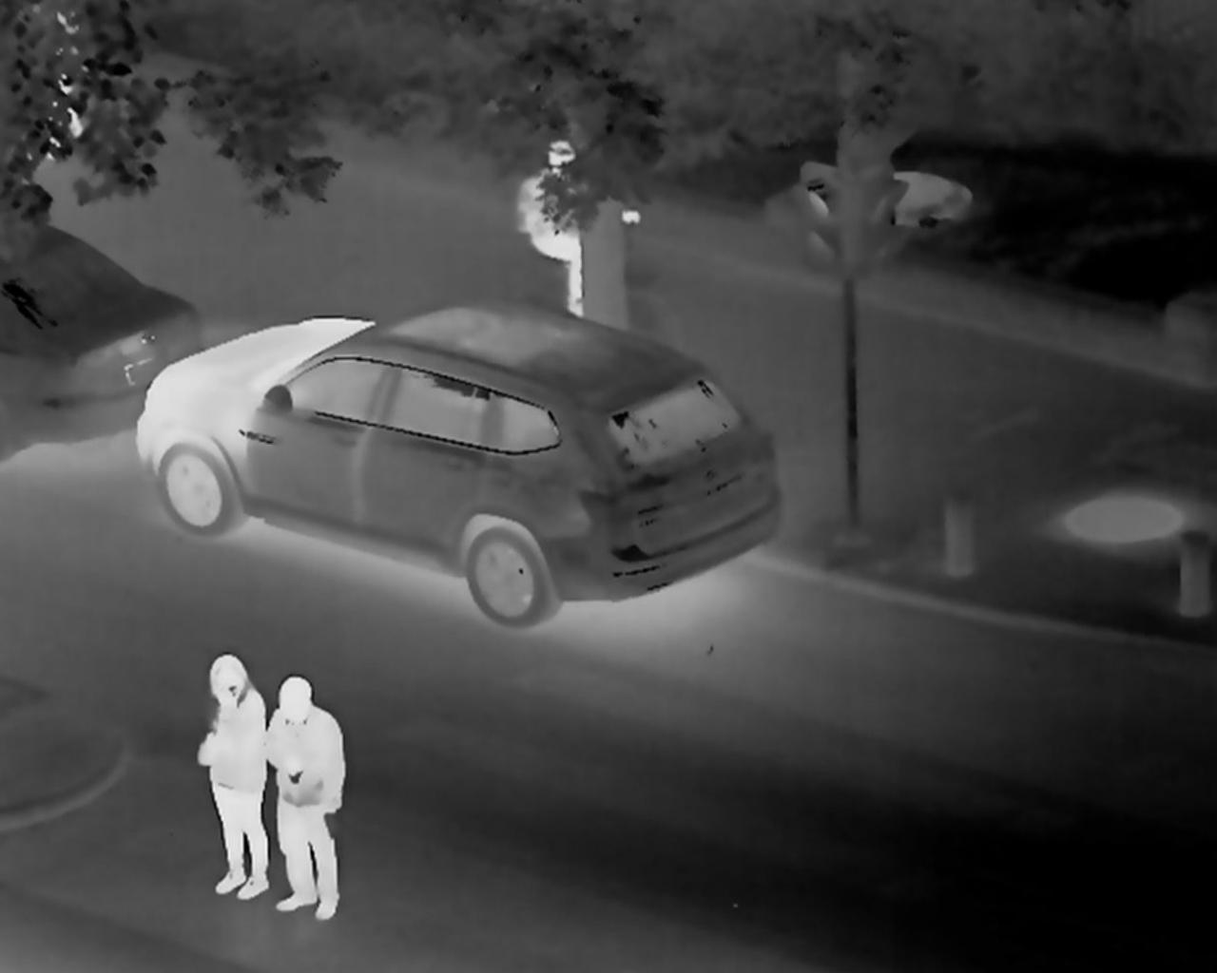person: (512, 133, 642, 319), (261, 674, 347, 922), (201, 652, 273, 901)
